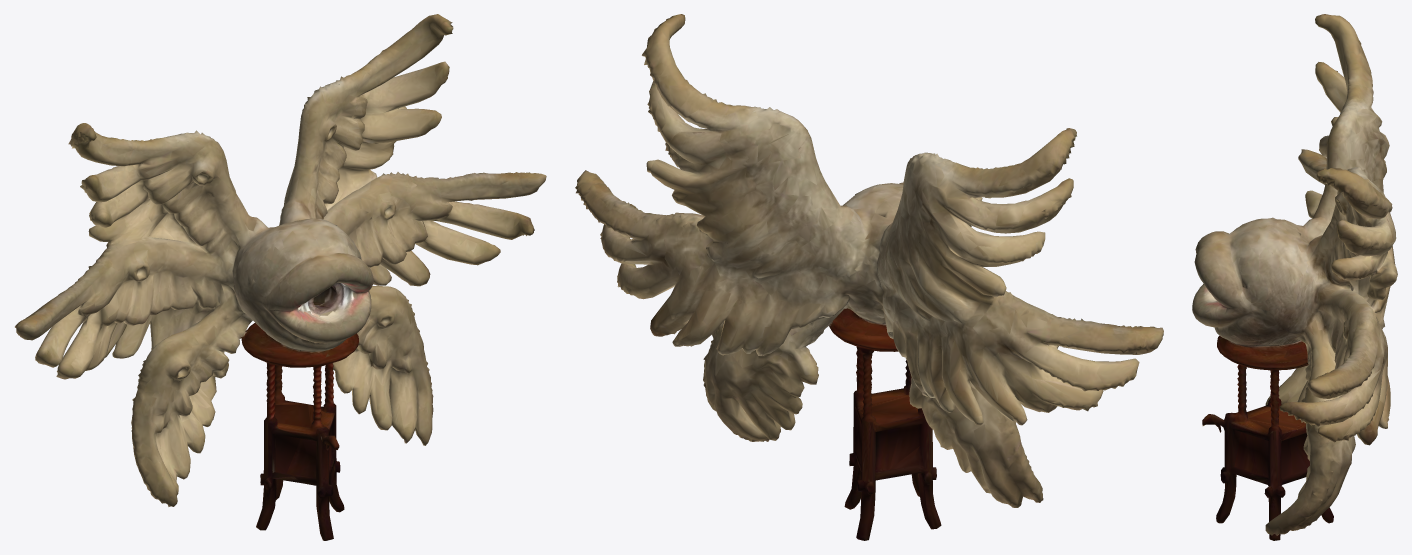
File: BeNotAfraid_Artwork3D.glb
3 renders of one model, left to right at view 1: azimuth 30°, elevation 25°; view 2: azimuth 150°, elevation 25°; view 3: azimuth 270°, elevation 25°, orthographic. The views are drawn at different scales.
Parts seen in each view (by area): view 1: Meshy_AI_Winged_Eye_0329093003_texture; view 2: Meshy_AI_Winged_Eye_0329093003_texture; view 3: Meshy_AI_Winged_Eye_0329093003_texture.
Part boxes in pixels (x1=…): Meshy_AI_Winged_Eye_0329093003_texture: x1=15, y1=14, x2=546, y2=540; Meshy_AI_Winged_Eye_0329093003_texture: x1=575, y1=14, x2=1163, y2=540; Meshy_AI_Winged_Eye_0329093003_texture: x1=1192, y1=14, x2=1397, y2=540.
Size of the model in its own units: 1.9 by 1.5 by 0.6413.
1 material, 1 textured.
